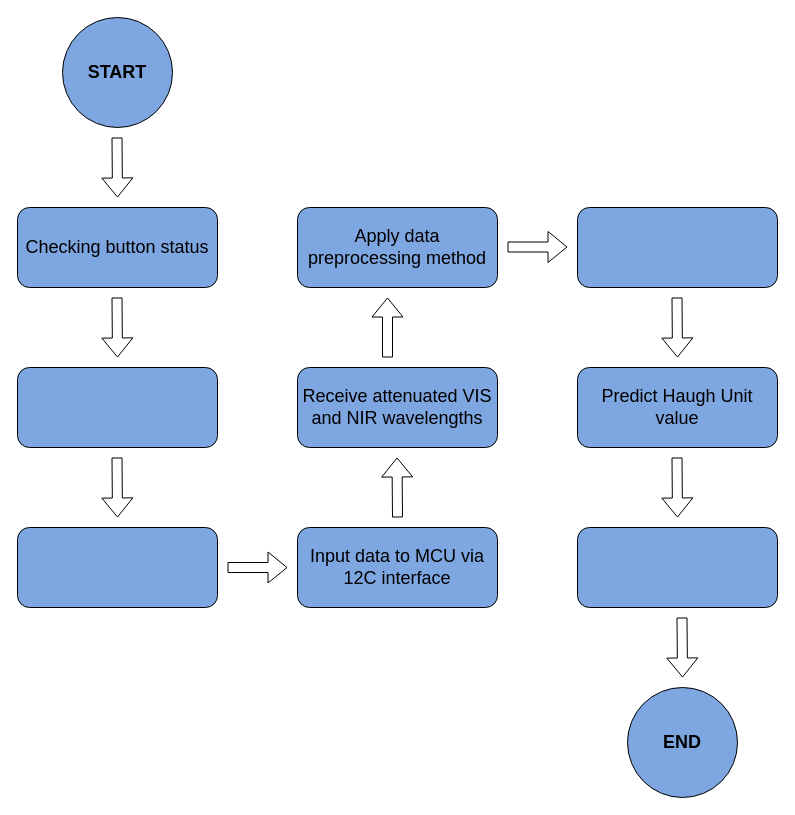
This 795x815 diagram has some shape labels left out. The box of each missing label's shape, as (x1, y1, x2, y2) in pixels:
Apply the most suitable machine learning model to the data: (576, 206, 778, 288)
Display on OLED screen: (576, 526, 778, 608)
The wavelength is reflected by water: (16, 526, 218, 608)
Turn on the light source: (16, 366, 218, 448)
